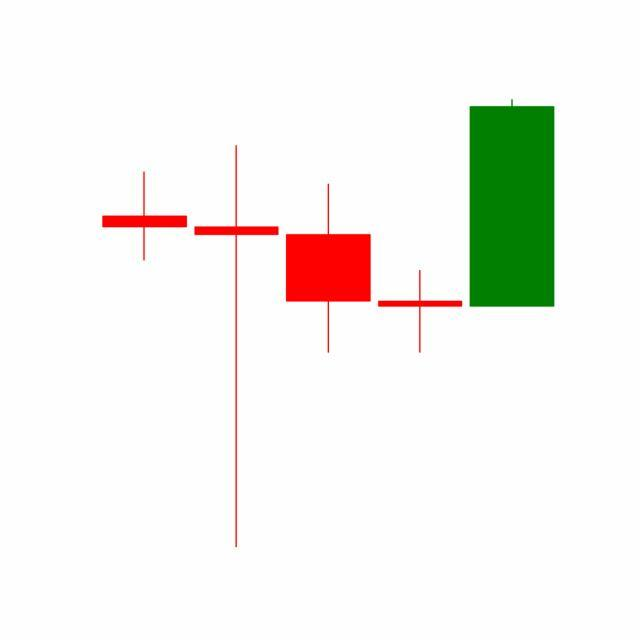Marubozu: (466, 97, 559, 309)
